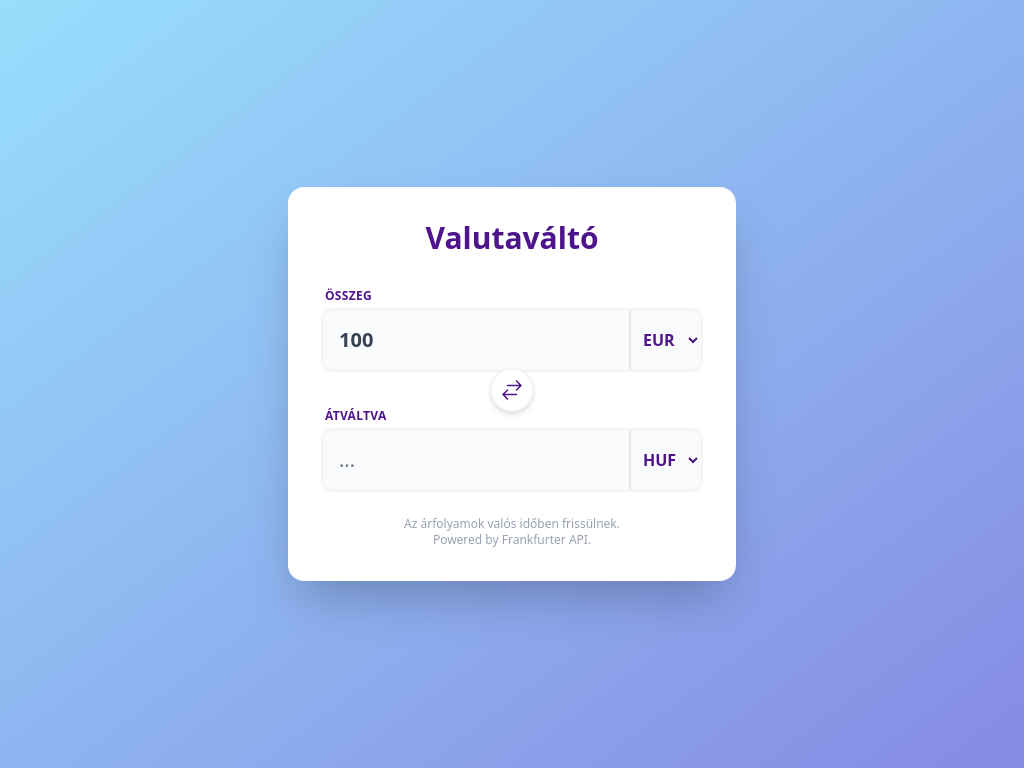
App Component › should swap currencies when swap button is clicked
Expected: the dropdown with test id "from-select" shows "EUR", [629,310,701,370]
Expected: the dropdown with test id "to-select" shows "HUF", [629,430,701,490]
Click the button with test id "swap-button" at (512, 390), box [490,368,534,412]
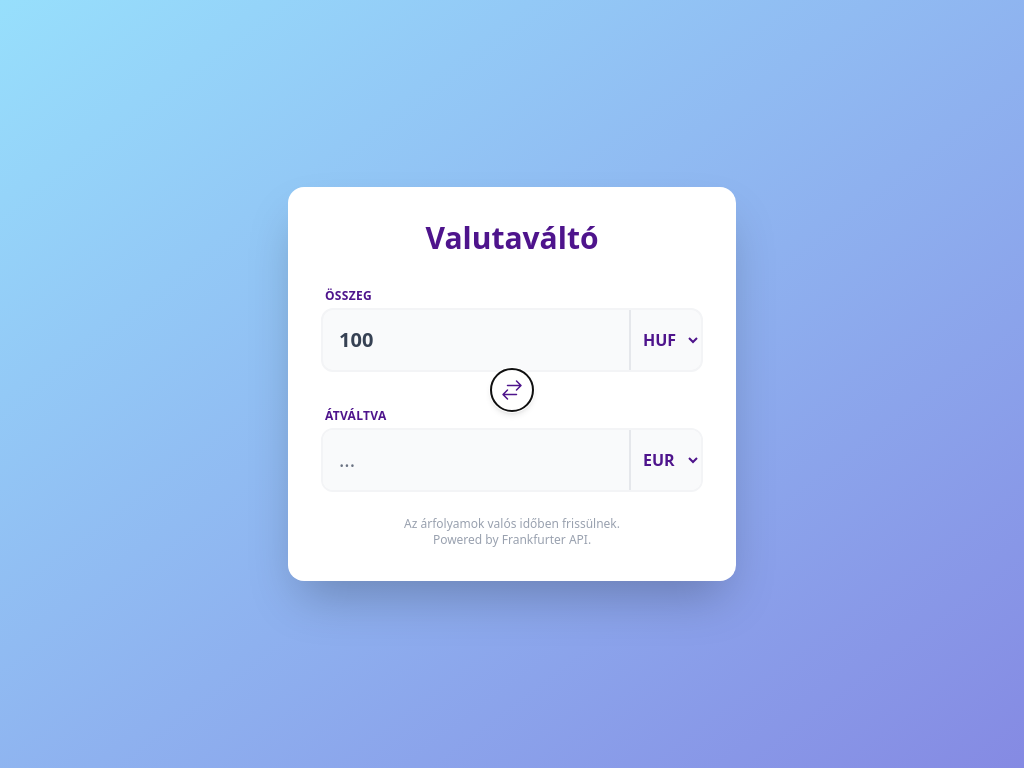
Expected: the number field with test id "amount-input" holds "100", [323,310,629,370]
Expected: the dropdown with test id "from-select" shows "HUF", [629,310,701,370]
Expected: the dropdown with test id "to-select" shows "EUR", [629,430,701,490]
